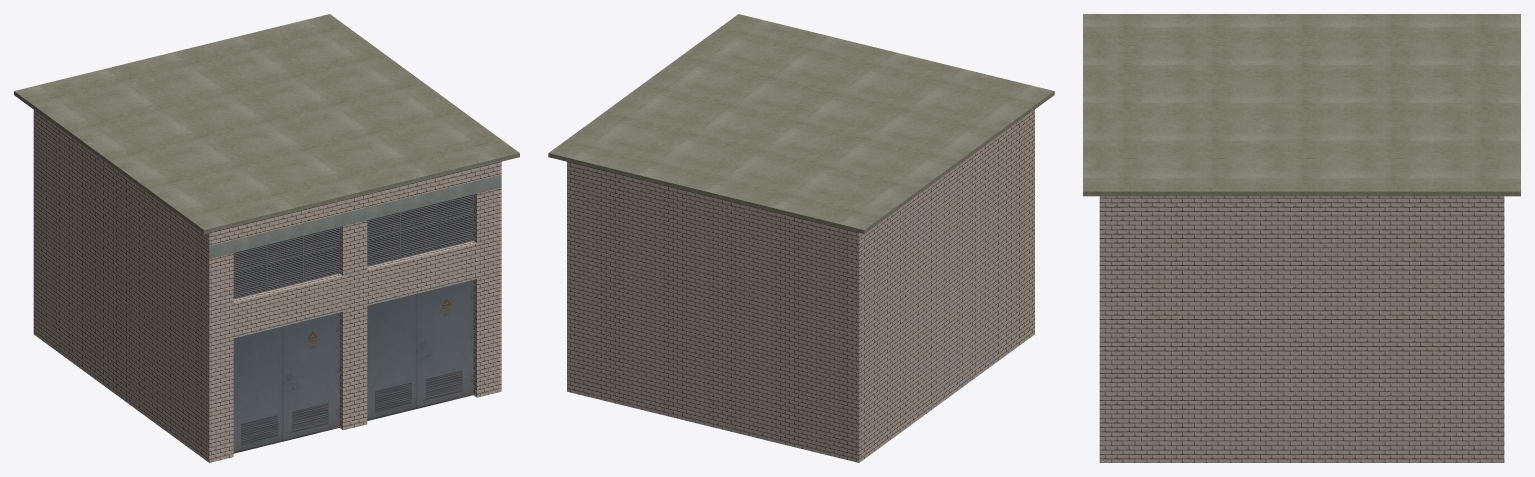
Rendered from ElectricSubstation.FBX.
3 renders of one model, left to right at view 1: azimuth 30°, elevation 25°; view 2: azimuth 150°, elevation 25°; view 3: azimuth 270°, elevation 25°, orthographic. The views are drawn at different scales.
Visible parts, largest first — view 1: Electr1; view 2: Electr1; view 3: Electr1.
Part boxes in pixels (x1,y1,x2,y2): Electr1: [14, 14, 519, 462]; Electr1: [548, 14, 1054, 462]; Electr1: [1083, 14, 1520, 462].
Bounding box in the file's own units: 353 × 257 × 368.
5 materials, 5 textured.
